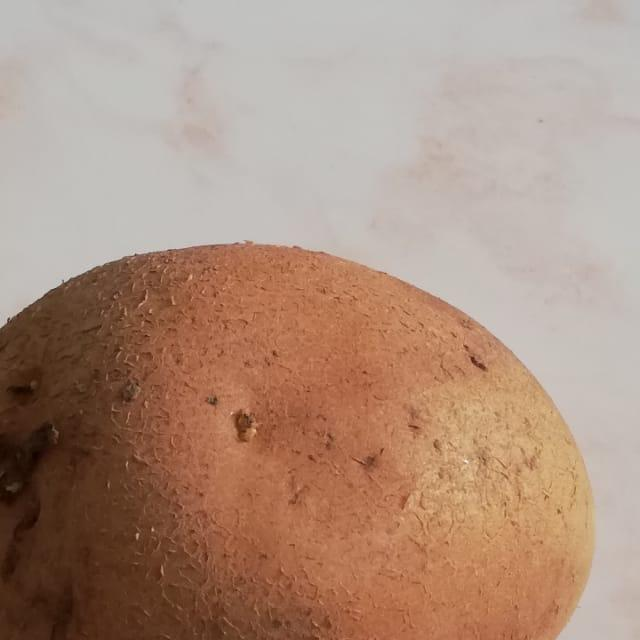potato: (0, 229, 631, 640)
